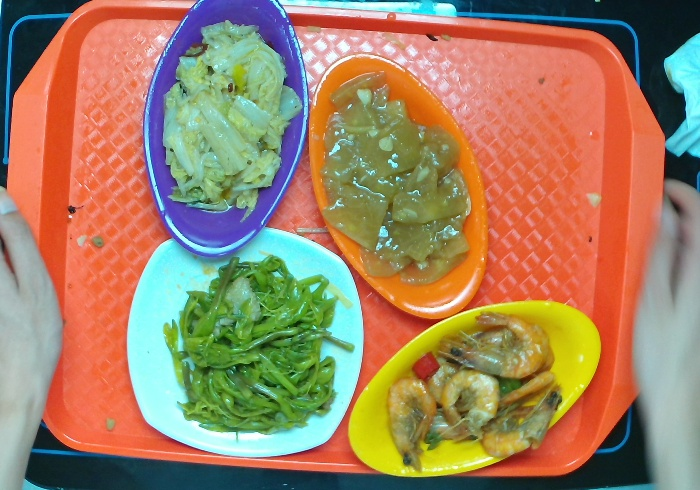RJxy-Fen_Hong_Tuo_Yuan: (137, 1, 311, 264)
RJxy-Huang_Se_Tuo_Yuan: (345, 297, 608, 482)
RJxy-Ju_Huang_Tuo_Yuan: (304, 49, 496, 325)
RJxy-Si_Fang_Die: (124, 224, 369, 462)
